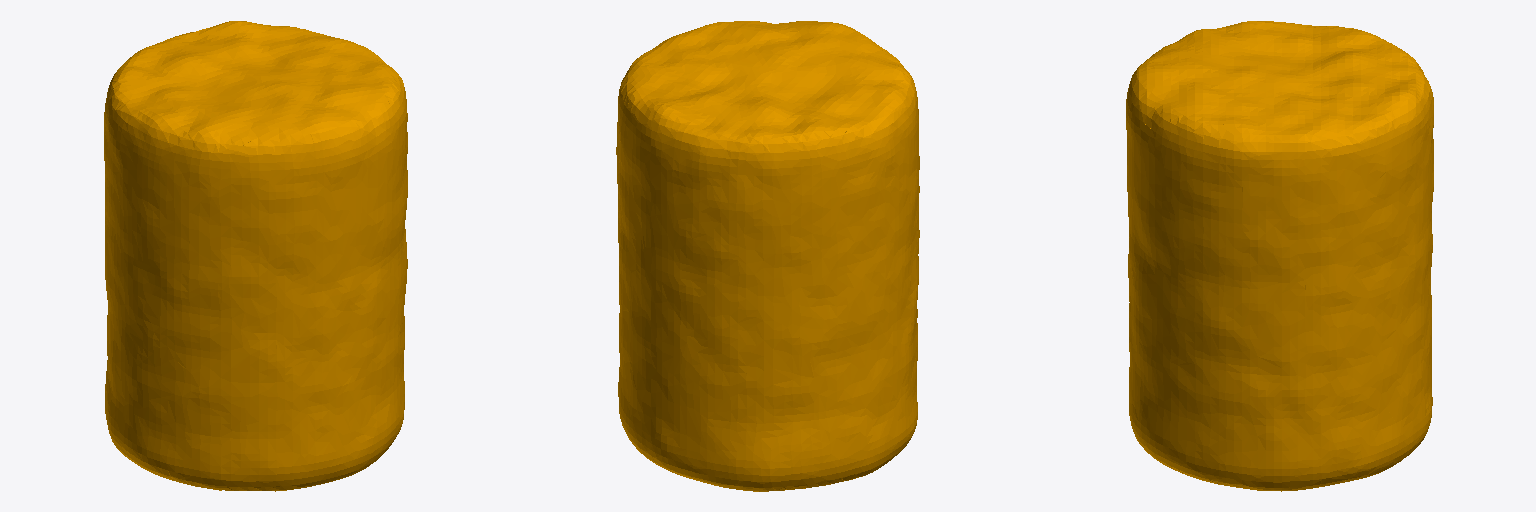
URDF robot description (002_master_chef_can):
<?xml version="1.0"?>
<robot name="002_master_chef_can">
  <link name="base_link">
    <inertial>
      <origin xyz="-0.009523 0.013479 0.069067" rpy="0 0 0" />
      <mass value="1.087386" />
      <inertia ixx="0.00232743" ixy="0.00000384" ixz="-0.00000936"
               iyy="0.00232550" iyz="0.00000871" izz="0.00138698" />
    </inertial>
    <visual>
      <geometry><mesh filename="002_master_chef_can.stl" scale="1.0 1.0 1.0" /></geometry>
    </visual>
    <collision>
      <geometry><mesh filename="002_master_chef_can_col.obj" scale="1.0 1.0 1.0" /></geometry>
    </collision>
    <contact>
      <lateral_friction value="1.0"/>
    </contact>
  </link>
</robot>

--- What the picture shows (computed from the rendered views, not written in the file) ---
3 views of the same robot in one strip: view 1: azimuth 30°, elevation 25°; view 2: azimuth 150°, elevation 25°; view 3: azimuth 270°, elevation 25° (orthographic).
Model 002_master_chef_can with 1 links and 0 joints (none), rooted at base_link, posed all joints at 0.
Visible links, largest first — view 1: base_link; view 2: base_link; view 3: base_link.
Boxes of the visible links, box(x1,y1,x2,y2) form: base_link: box(104, 21, 407, 491); base_link: box(616, 21, 919, 491); base_link: box(1126, 21, 1433, 491).
Bounding box of the posed robot: 0.103 × 0.1035 × 0.1396 m (x, y, z).
Meshes: 1 distinct files referenced, 1 mesh visuals loaded (1 binary STL).
